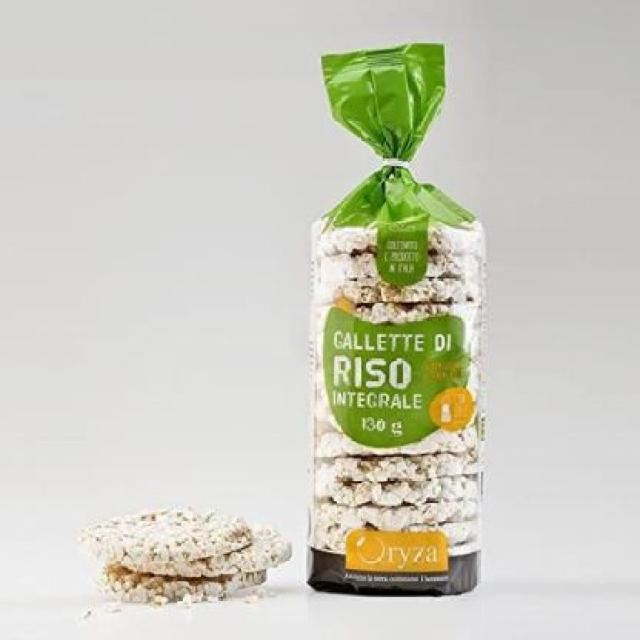Gallette di riso: (298, 40, 491, 600)
Gallette di riso packaged: (76, 506, 296, 608)
